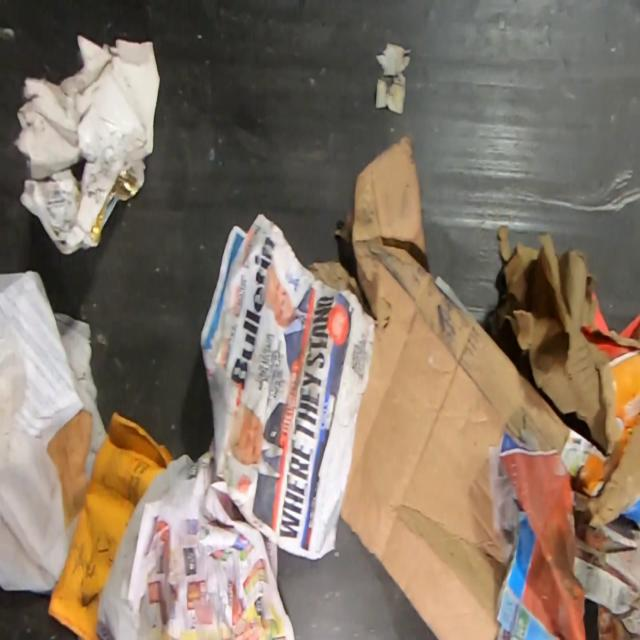cardboard: (306, 131, 569, 640), (488, 221, 640, 640)
